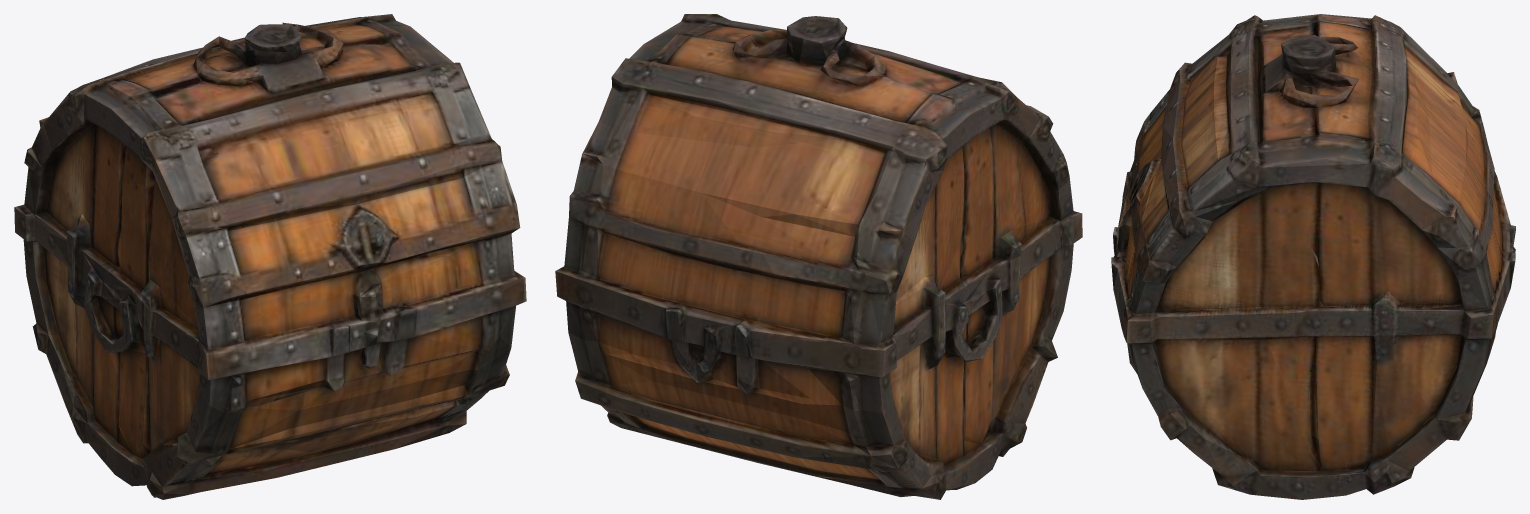
File: keg_iron_banded_side_lod0.glb
3 renders of one model, left to right at view 1: azimuth 30°, elevation 25°; view 2: azimuth 150°, elevation 25°; view 3: azimuth 270°, elevation 25°, orthographic. The views are drawn at different scales.
Parts seen in each view (by area): view 1: keg_iron_banded_side_lod0; view 2: keg_iron_banded_side_lod0; view 3: keg_iron_banded_side_lod0.
Boxes of the visible parts, x1=… form: keg_iron_banded_side_lod0: x1=14, y1=14, x2=526, y2=499; keg_iron_banded_side_lod0: x1=555, y1=14, x2=1082, y2=499; keg_iron_banded_side_lod0: x1=1111, y1=14, x2=1515, y2=499.
Bounding box in the file's own units: 0.8352 × 1 × 0.9392.
Materials: 1 (1 with a texture image).
